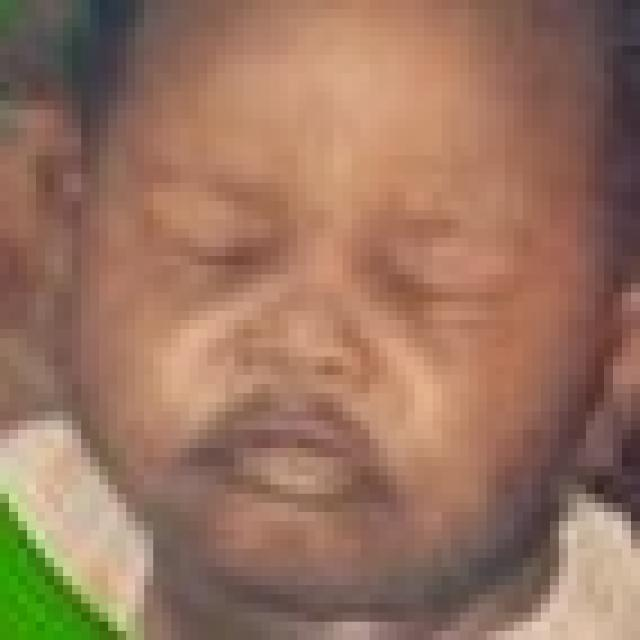Eyeclosed: (404, 272, 513, 324), (182, 233, 274, 275)
